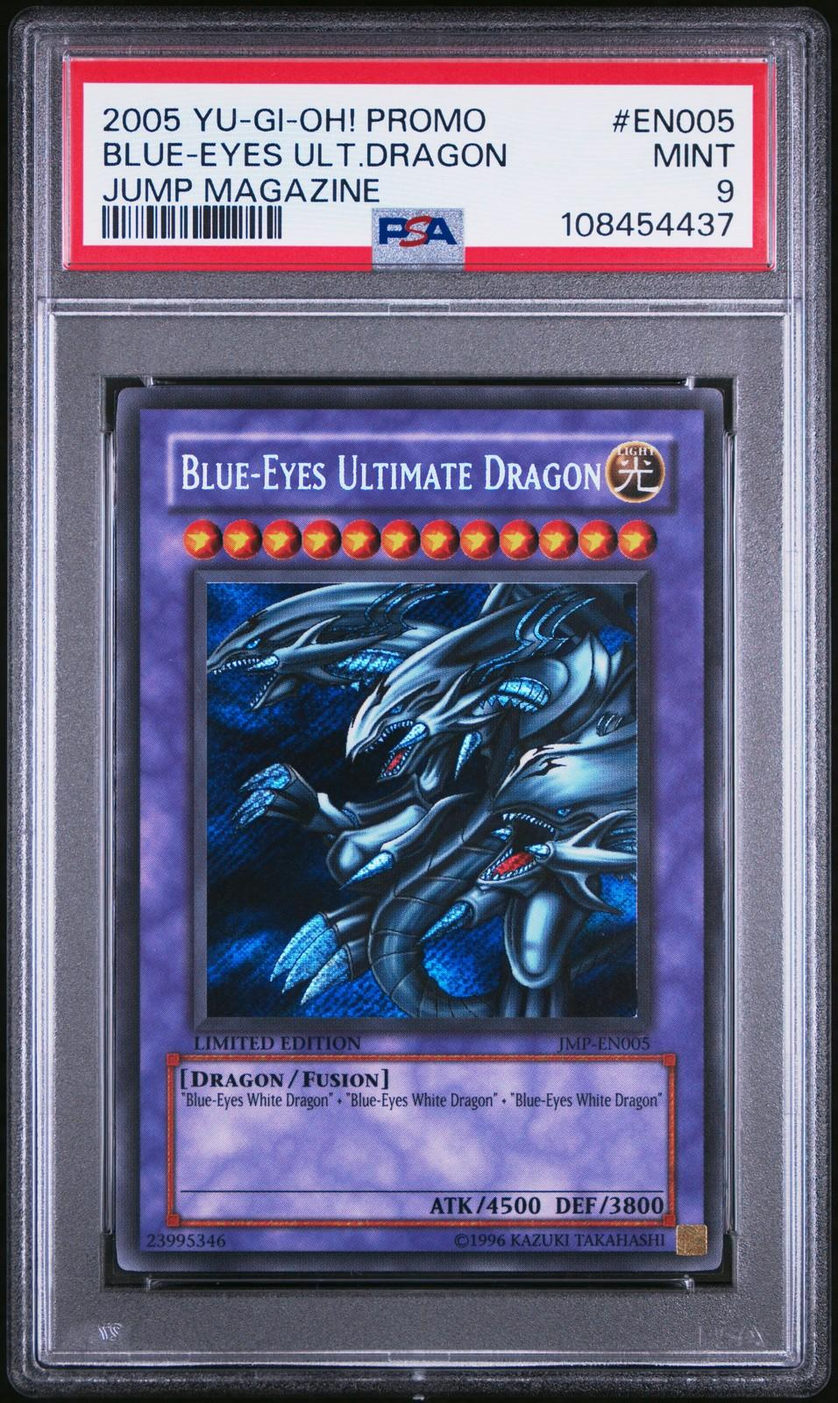card-2UtV: (115, 386, 724, 1272)
